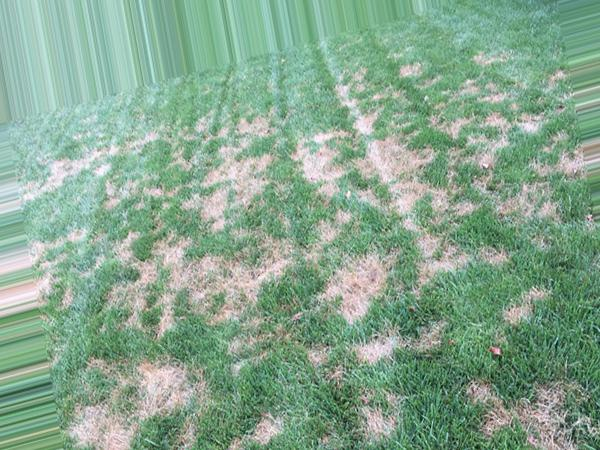patch: (90, 360, 215, 429), (331, 360, 429, 424), (274, 280, 374, 342), (475, 380, 567, 440), (345, 205, 406, 260), (155, 244, 226, 287), (276, 141, 350, 176), (387, 143, 438, 179), (201, 168, 255, 200)
